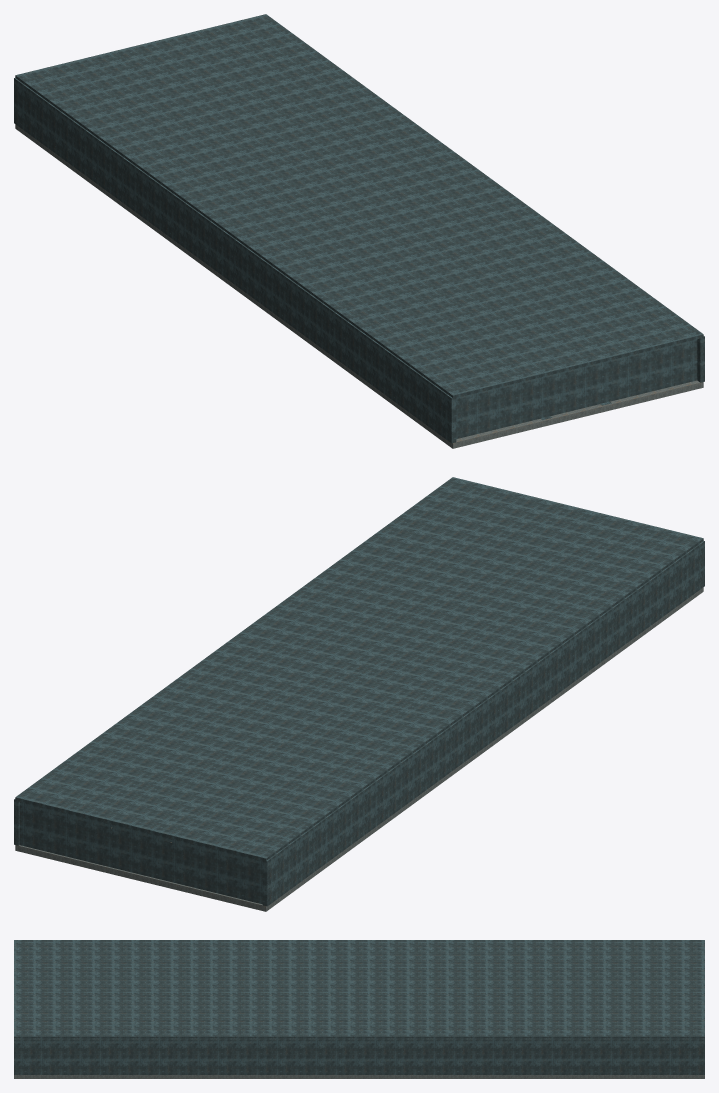
Rendered from chapter5.glb.
3 renders of one model, top to bottom at view 1: azimuth 30°, elevation 25°; view 2: azimuth 150°, elevation 25°; view 3: azimuth 270°, elevation 25°, orthographic. The views are drawn at different scales.
Parts seen in each view (by area): view 1: Technikgang mit Kabeltrassen; view 2: Technikgang mit Kabeltrassen; view 3: Technikgang mit Kabeltrassen.
Boxes of the visible parts, left/top/right/bottom form: Technikgang mit Kabeltrassen: left=14, top=14, right=704, bottom=448; Technikgang mit Kabeltrassen: left=14, top=477, right=704, bottom=911; Technikgang mit Kabeltrassen: left=14, top=940, right=704, bottom=1078.
Bounding box in the file's own units: 19.39 × 3.9 × 58.
34 materials, 17 textured.
